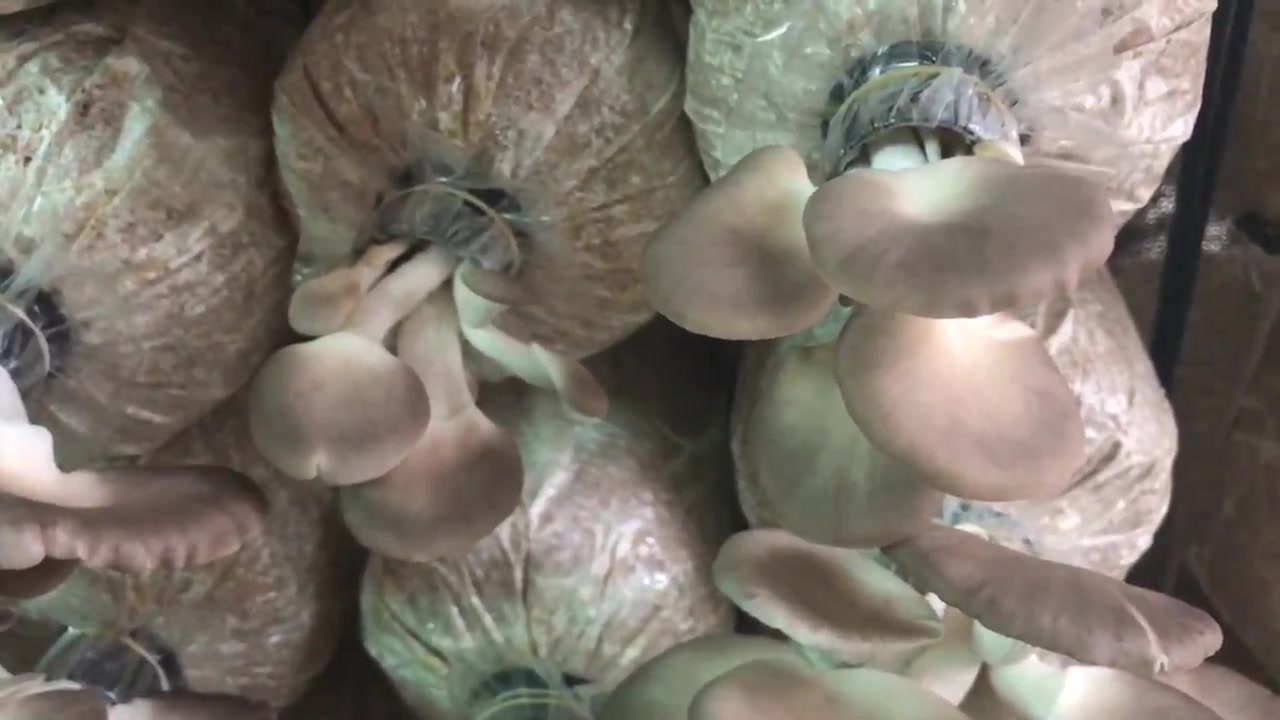nam: (689, 64, 1100, 532), (259, 189, 599, 562), (611, 545, 1276, 720), (1, 468, 249, 564)
